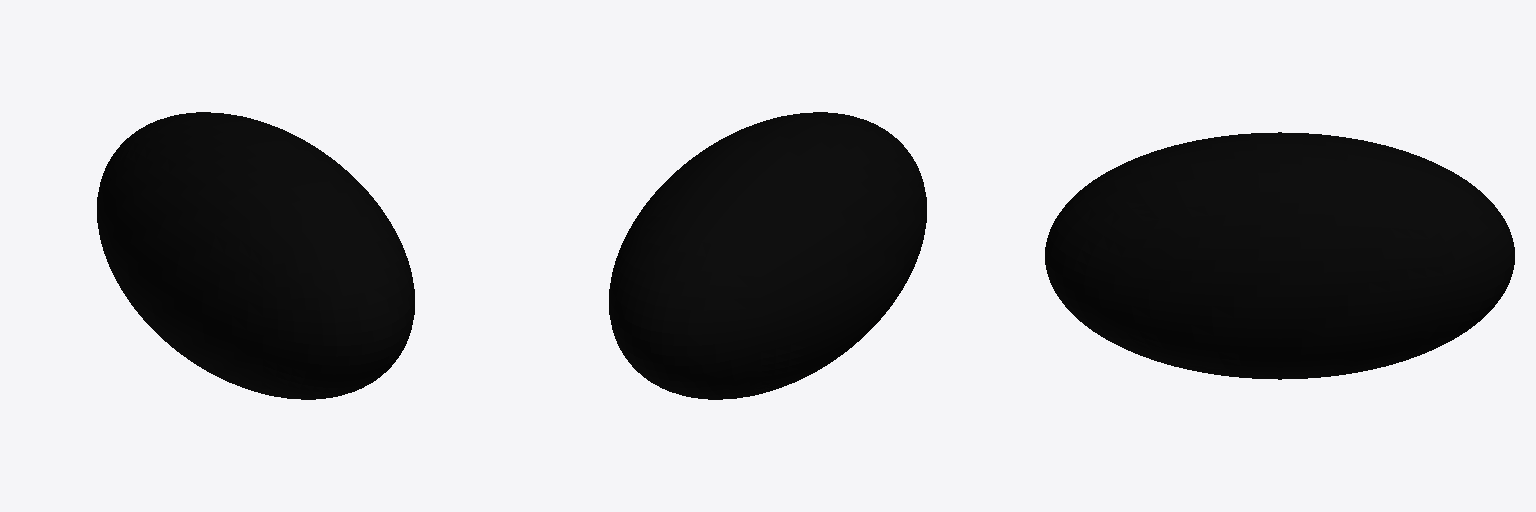
The model's file is Comet2.obj.
3 views of the same model, side by side, from view 1: azimuth 30°, elevation 25°; view 2: azimuth 150°, elevation 25°; view 3: azimuth 270°, elevation 25° (orthographic).
Parts seen in each view (by area): view 1: Cube; view 2: Cube; view 3: Cube.
Part boxes in pixels (bbox=[...]): Cube: bbox=[97, 112, 414, 399]; Cube: bbox=[609, 112, 926, 399]; Cube: bbox=[1045, 132, 1514, 379].
Size of the model in its own units: 3.46 by 3.46 by 6.6.